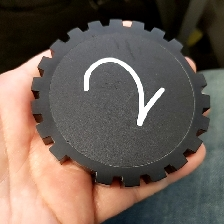gear: (29, 18, 211, 188)
missing: (48, 142, 114, 188), (167, 37, 208, 89)
